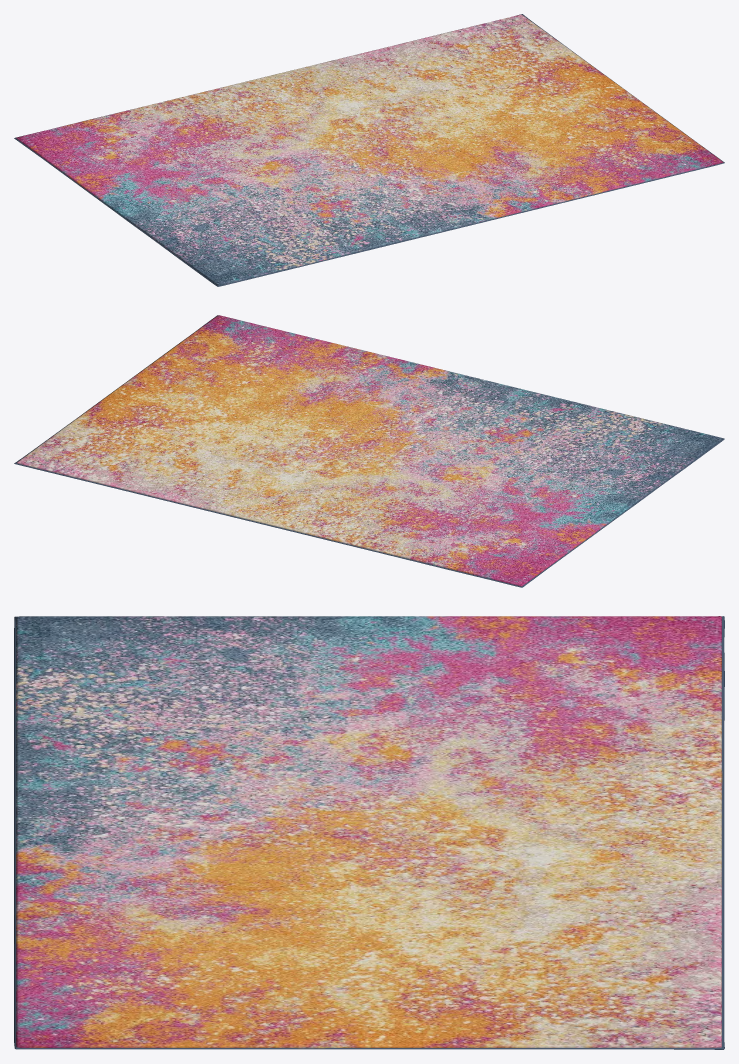
The model's file is B0719FLQP3.glb.
3 renders of one model, top to bottom at view 1: azimuth 30°, elevation 25°; view 2: azimuth 150°, elevation 25°; view 3: azimuth 270°, elevation 25°, orthographic. The views are drawn at different scales.
Visible parts, largest first — view 1: RootNode; view 2: RootNode; view 3: RootNode.
Boxes of the visible parts, box(x1,y1,x2,y2) form: RootNode: box(14, 14, 724, 286); RootNode: box(14, 315, 724, 587); RootNode: box(14, 616, 724, 1049).
Size of the model in its own units: 2.9 by 0.0124 by 2.01.
Materials: 1 (1 with a texture image).
